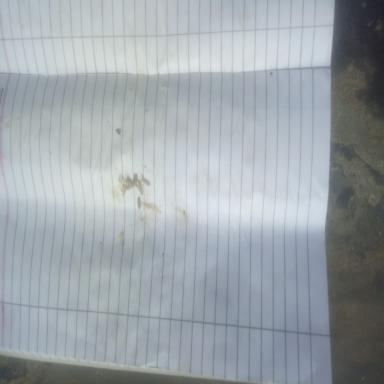pbw: (137, 179, 143, 195), (141, 178, 151, 186), (138, 197, 142, 210), (127, 183, 134, 189)
